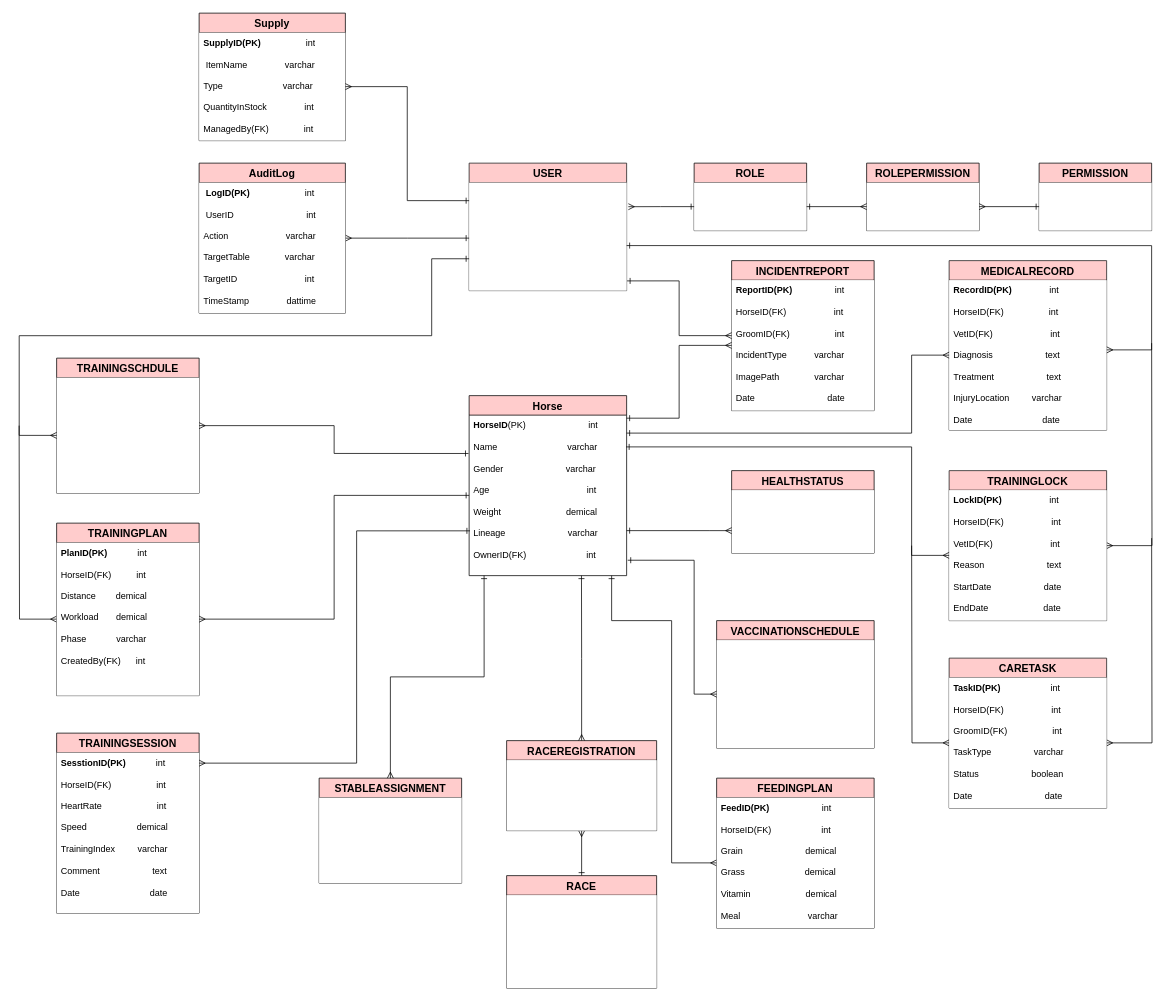
Some shapes in this 1172 by 1004 pixel diagram are drawn without their labels. The centre of each missing label's shape, as x and y in pixels:
HorseID(PK) int Status varchar LastUpdate date: [802,521]
HorseID(PK/FK) int RaceID(PK/FK) int RegistrationDate date: [581,795]
PermissionID(PK) int RoleName varchar: [1095,206]
RaceID(PK) int RaceName varchar Date date Time time: [581,941]
RoleID(FK) int PermissionID(FK) int: [922,206]
RoleID(PK) int RoleName varchar: [750,206]
ScheduleID(PK) int HorseID(FK) int Groom(FK) int Date date Time time: [127,435]
ScheduleID(PK) int HorseID(FK) int Type varchar ScheduleDate date Status varchar: [795,694]
StableID(PK) int HorseID(FK) int StallNumber varchar DailyRoutine text: [390,840]
UserID(PK) int FullName varchar Email varchar Password varchar RoleID(FK) int: [547,236]
